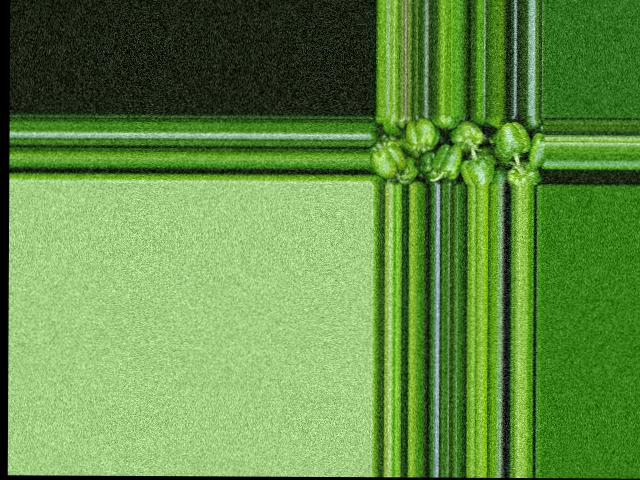bell_pepper: (369, 115, 543, 183)
